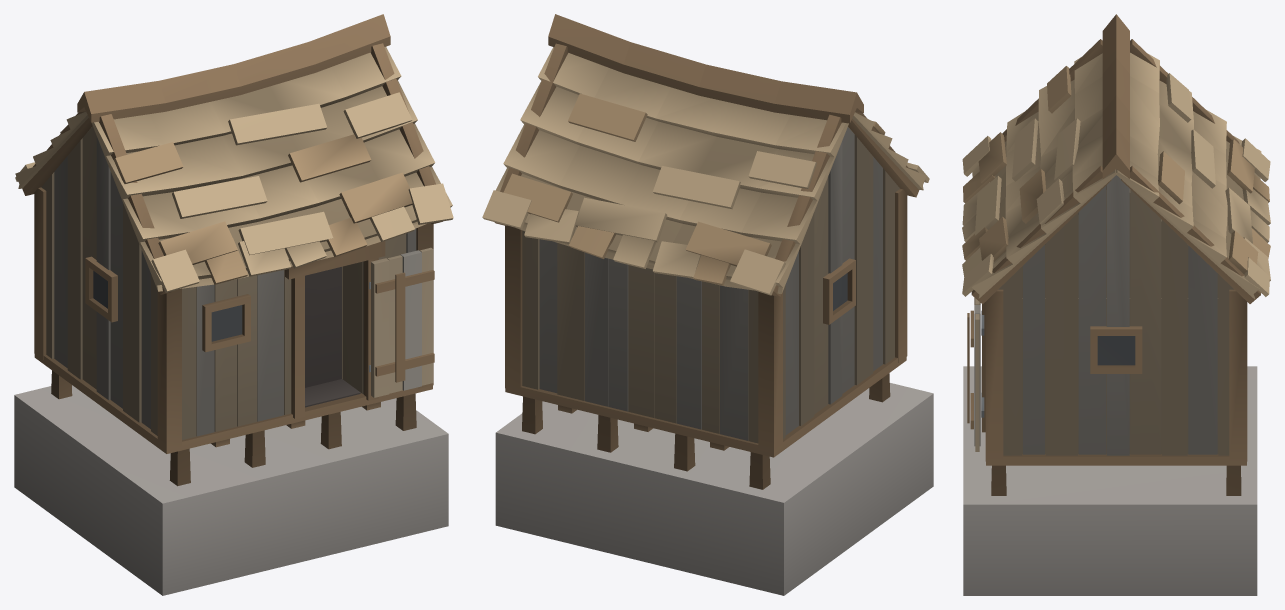
File: shack.glb
The picture shows the model from 3 angles, left to right: view 1: azimuth 30°, elevation 25°; view 2: azimuth 150°, elevation 25°; view 3: azimuth 270°, elevation 25°; orthographic projection.
Visible parts, largest first — view 1: shack; view 2: shack; view 3: shack.
Part boxes in pixels (x1,y1,x2,y2): shack: (14, 14, 453, 595); shack: (482, 14, 933, 595); shack: (962, 14, 1270, 595).
Size of the model in its own units: 5.19 by 7.5 by 4.69.
